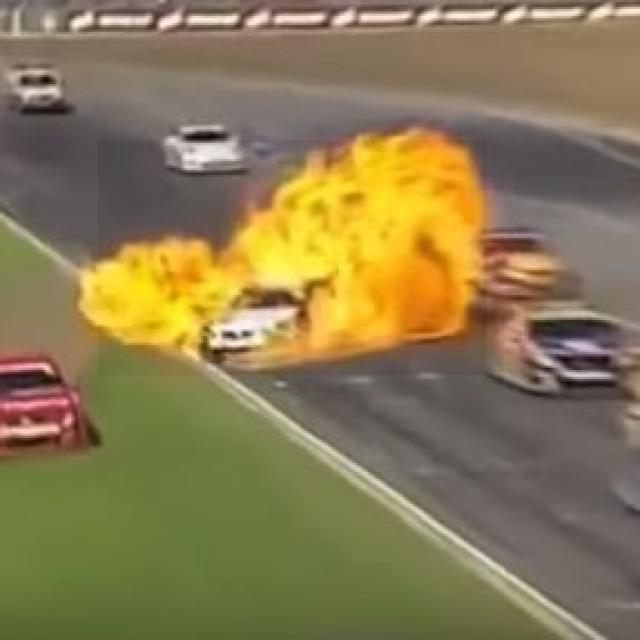Fire: (98, 140, 487, 375)
